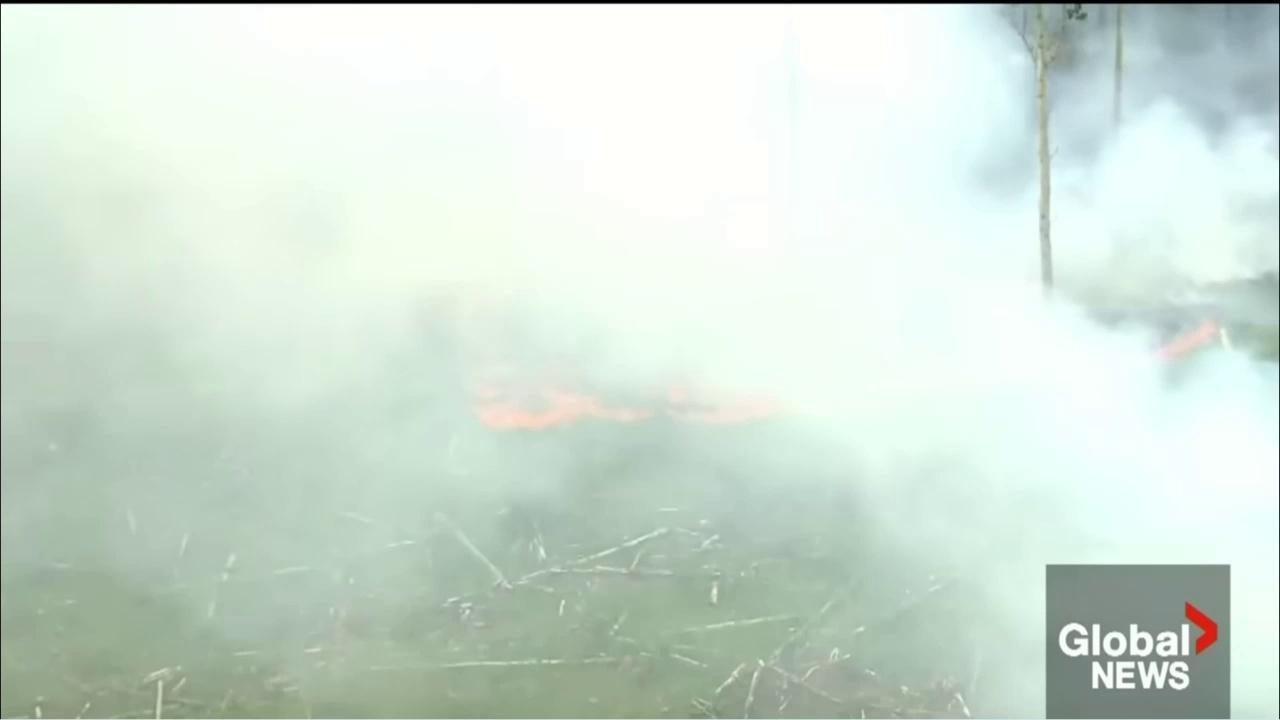fire: (466, 370, 802, 438), (1135, 311, 1226, 367)
smoke: (1, 4, 1278, 720)
